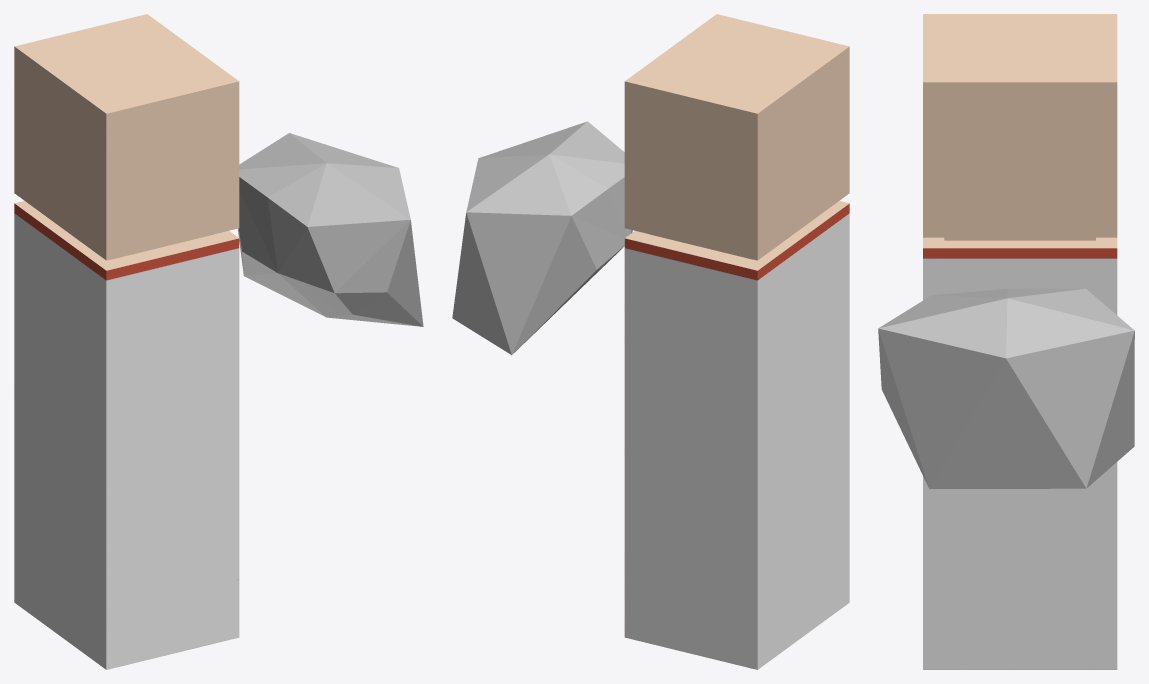
File: StoneQuarryWorker.fbx
The picture shows the model from 3 angles, left to right: view 1: azimuth 30°, elevation 25°; view 2: azimuth 150°, elevation 25°; view 3: azimuth 270°, elevation 25°; orthographic projection. The views are drawn at different scales.
Visible parts, largest first — view 1: Cube, Rock_01; view 2: Cube, Rock_01; view 3: Cube, Rock_01.
Part boxes in pixels (<box>): Cube: <box>14,14,239,669</box>; Rock_01: <box>238,133,423,326</box>; Cube: <box>624,14,849,669</box>; Rock_01: <box>452,121,632,354</box>; Cube: <box>923,14,1117,669</box>; Rock_01: <box>878,288,1134,488</box>.
Bounding box in the file's own units: 62.46 × 100 × 39.6.
